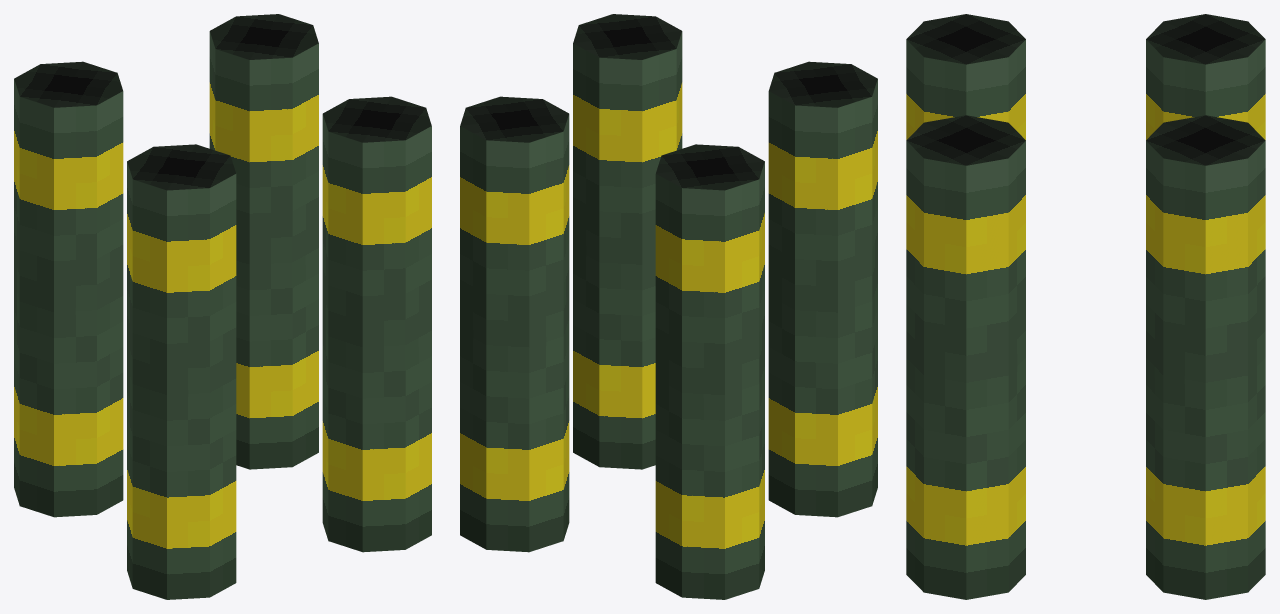
File: pipe_quad_marked.obj
The picture shows the model from 3 angles, left to right: view 1: azimuth 30°, elevation 25°; view 2: azimuth 150°, elevation 25°; view 3: azimuth 270°, elevation 25°; orthographic projection. The views are drawn at different scales.
Parts seen in each view (by area): view 1: Side, Top; view 2: Side, Top; view 3: Side, Top.
Boxes of the visible parts, x1,y1,x2,y2 form: Side: [14, 31, 431, 599]; Top: [14, 14, 431, 190]; Side: [460, 31, 877, 599]; Top: [460, 14, 877, 190]; Side: [906, 39, 1265, 599]; Top: [906, 14, 1265, 165].
Size of the model in its own units: 0.75 by 1 by 0.75.
